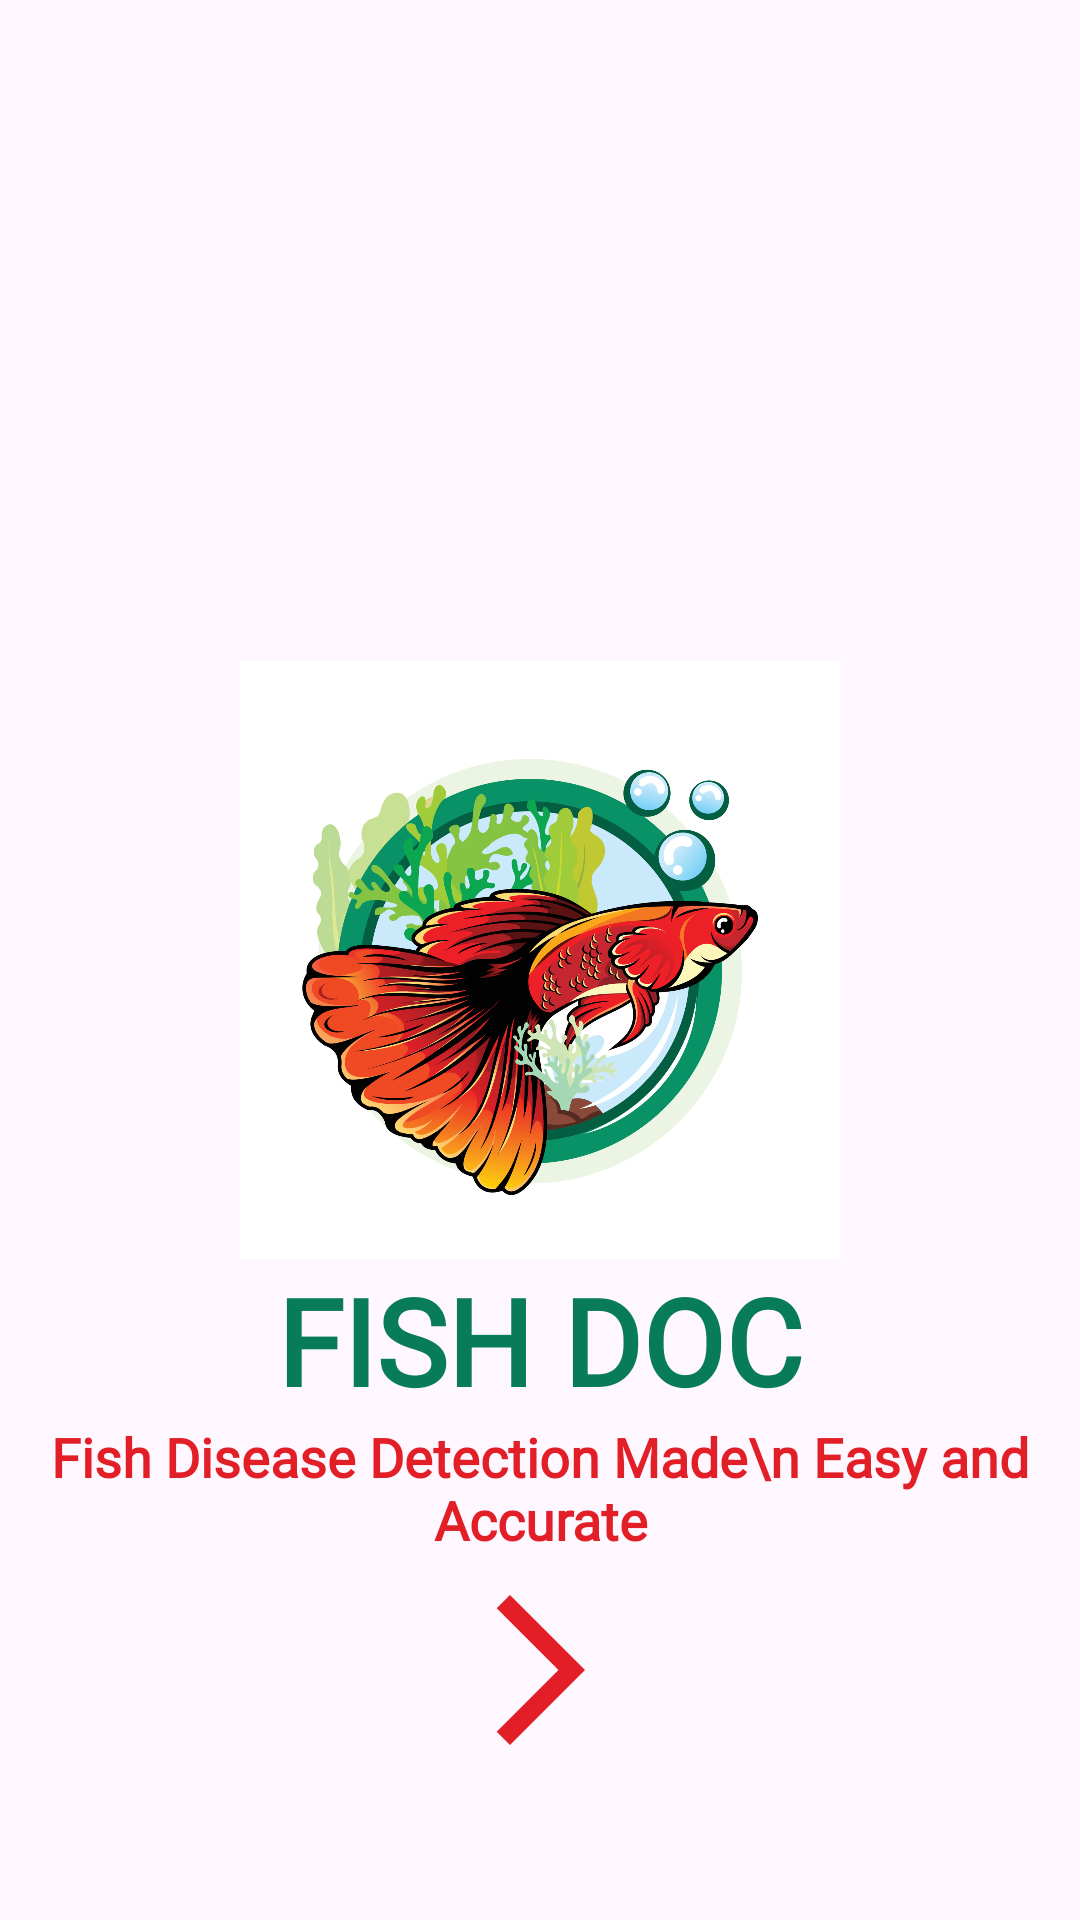

Screen size 1080×1920. Icon name, then its center in pixels as (x,y):
arrow: (541,1670)
